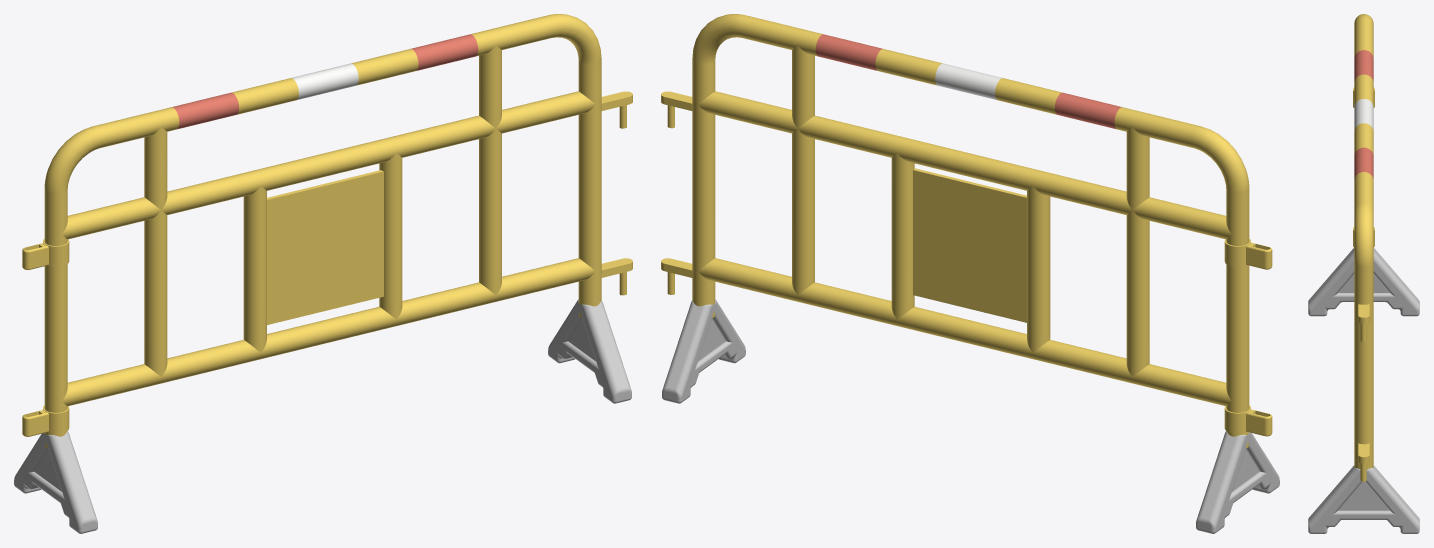
The picture shows the model from 3 angles, left to right: view 1: azimuth 30°, elevation 25°; view 2: azimuth 150°, elevation 25°; view 3: azimuth 270°, elevation 25°; orthographic projection. The views are drawn at different scales.
Parts seen in each view (by area): view 1: Body36, Body5, Body13, Body11, Body46, Body45, Body47, Body48, Body49, Body18, Body31; view 2: Body36, Body5, Body13, Body11, Body46, Body45, Body47, Body48, Body49, Body18, Body31; view 3: Body36, Body13, Body11, Body46, Body48, Body47, Body49, Body45, Body34, Body14.
Boxes of the visible parts, x1,y1,x2,y2 form: Body36: (44, 14, 601, 448); Body5: (267, 170, 383, 324); Body13: (548, 299, 631, 403); Body11: (14, 431, 97, 533); Body46: (351, 49, 418, 85); Body45: (411, 34, 478, 70); Body47: (292, 63, 358, 99); Body48: (232, 78, 298, 114); Body49: (172, 92, 239, 129); Body18: (22, 405, 69, 436); Body31: (22, 239, 69, 269); Body36: (692, 14, 1249, 448); Body5: (913, 168, 1026, 322); Body13: (662, 299, 745, 403); Body11: (1196, 431, 1279, 533); Body46: (875, 49, 942, 85); Body45: (815, 34, 882, 70); Body47: (935, 63, 1001, 99); Body48: (995, 78, 1061, 114); Body49: (1054, 92, 1121, 129); Body18: (1224, 405, 1272, 436); Body31: (1224, 239, 1272, 269); Body36: (1354, 14, 1373, 481); Body13: (1308, 465, 1419, 533); Body11: (1308, 248, 1419, 316); Body46: (1354, 123, 1373, 154); Body48: (1354, 74, 1373, 105); Body47: (1354, 99, 1373, 130); Body49: (1354, 50, 1373, 81); Body45: (1354, 147, 1373, 179); Body34: (1358, 304, 1369, 341); Body14: (1358, 443, 1369, 481).
Size of the model in its own units: 153 by 89.25 by 29.
